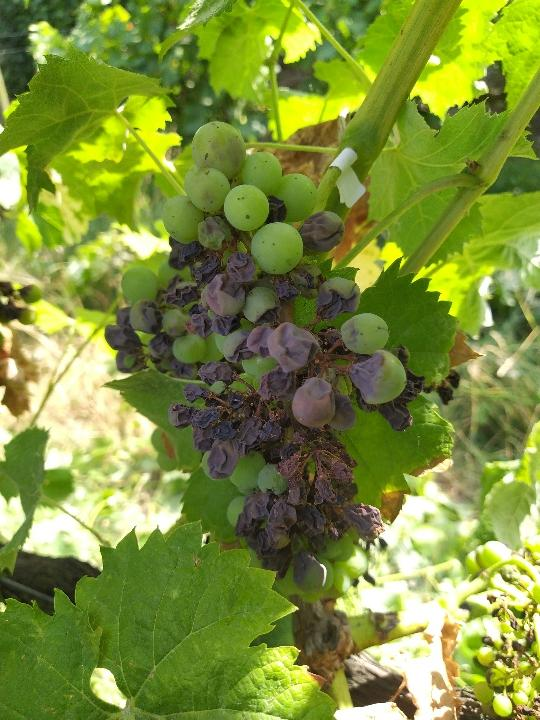grape: (102, 120, 430, 604)
